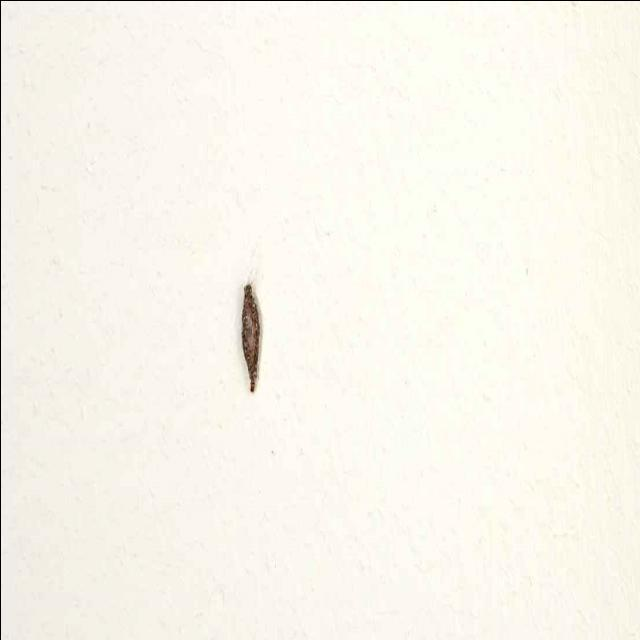leak: (222, 255, 276, 403)
